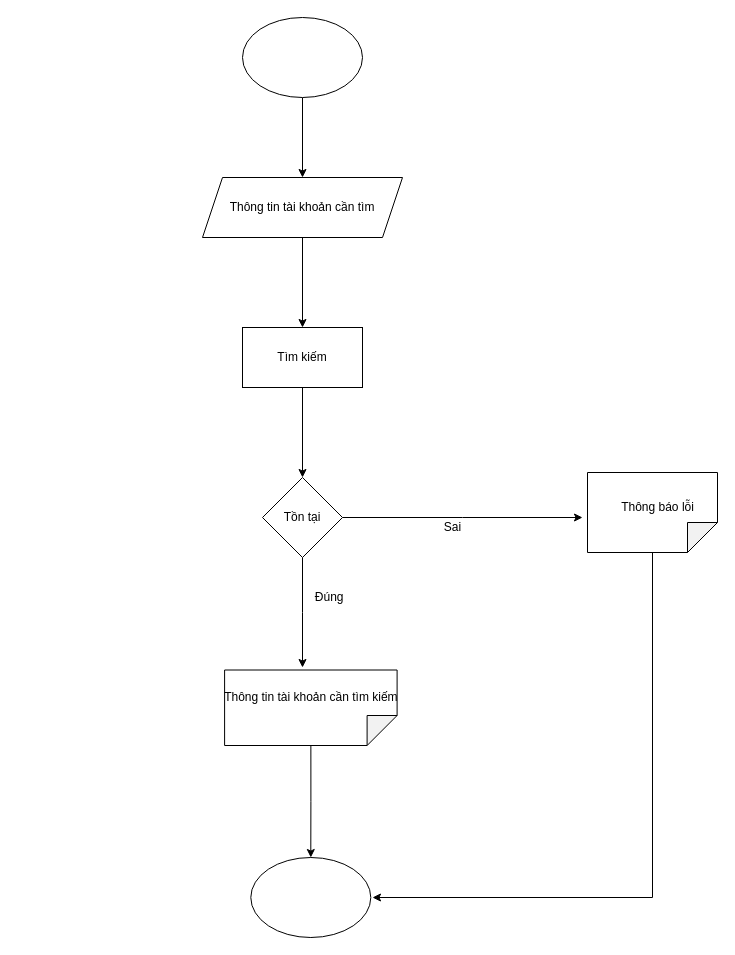
Image size: 735x955. Some labels were removed from this diagram. Each missing label, with the box of its shape:
Bắt đầu: (242, 16, 362, 98)
Kết thúc: (250, 856, 371, 938)
